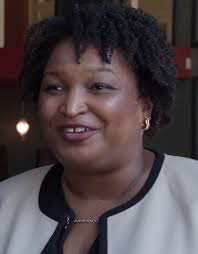black_female: (17, 6, 185, 170)
